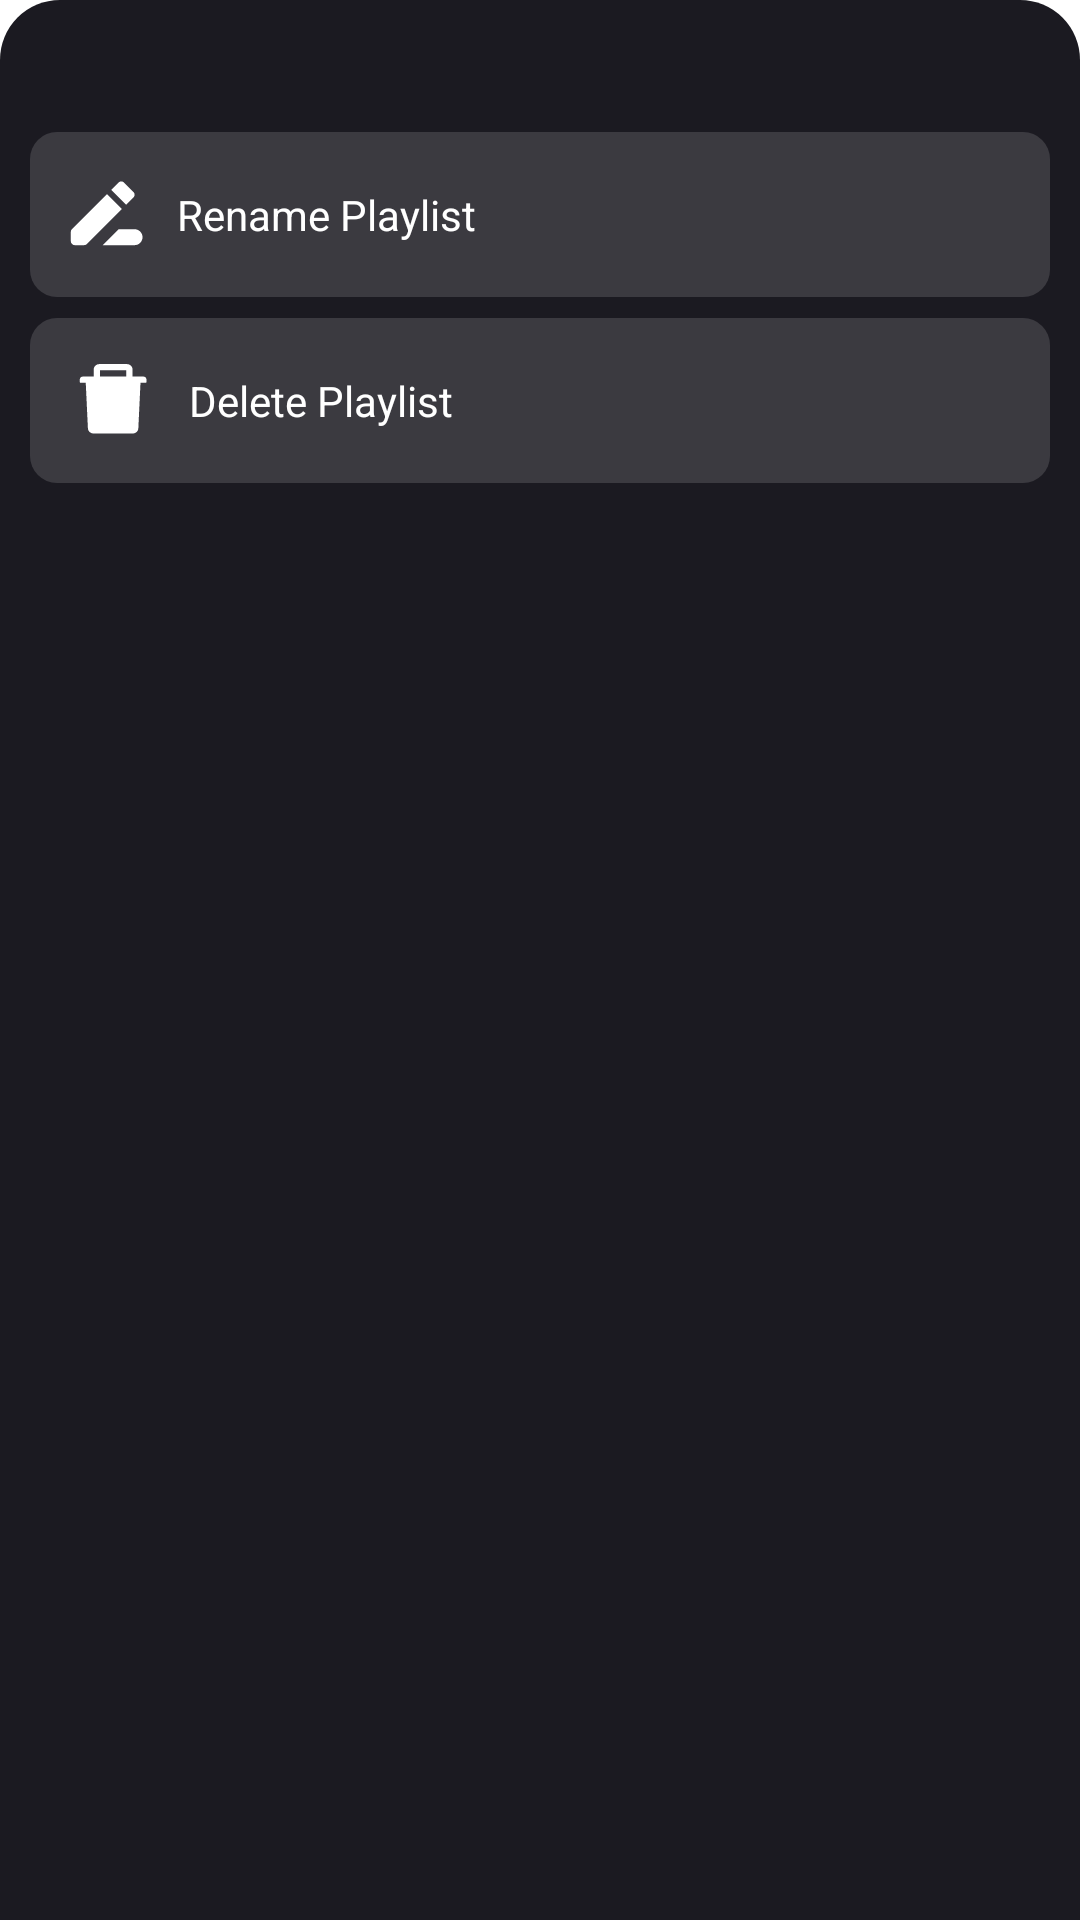

Named icons in this screenshot (1080px x 1920px) and their bounding boxes, [x1, y1, x2, y2]:
edit name pl: [70, 181, 143, 246]
